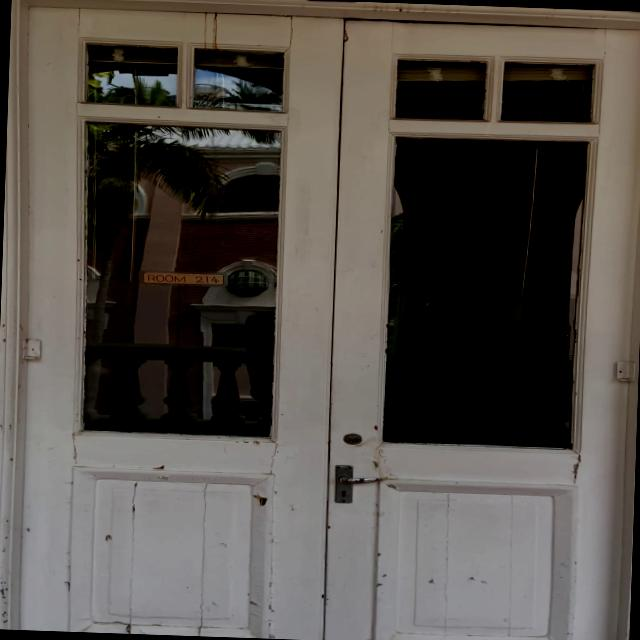room214Window: (134, 267, 234, 288)
